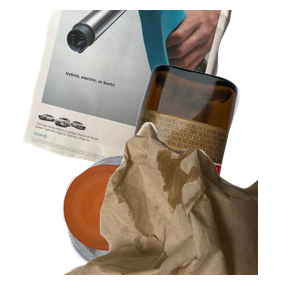glass: (113, 62, 300, 242)
paper: (20, 10, 244, 190)
plastic: (60, 152, 237, 300)
trash: (60, 120, 300, 300)
